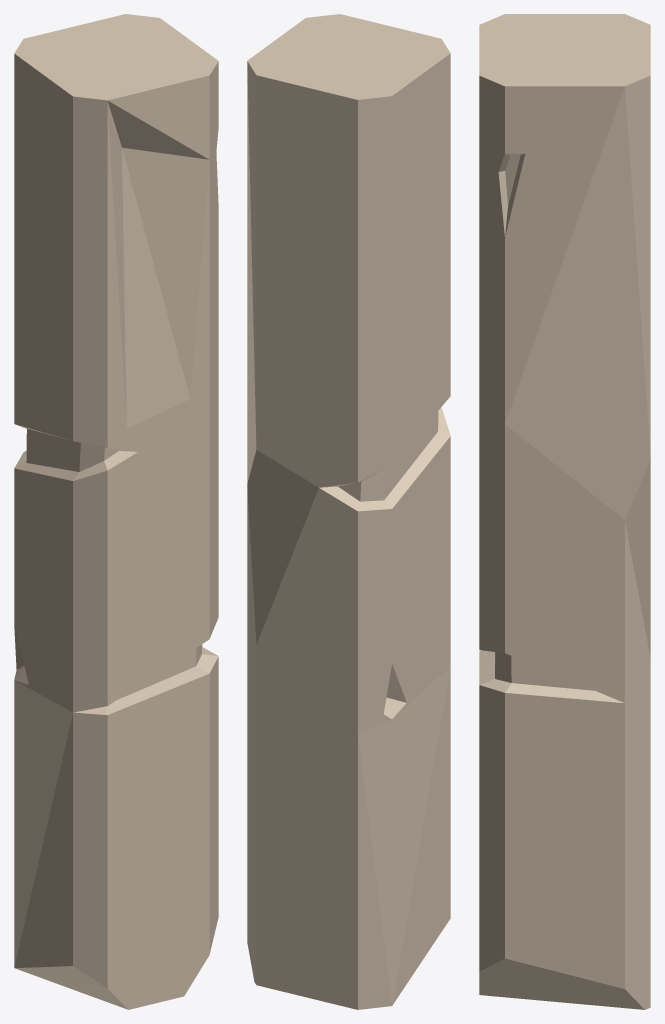
The model's file is Pillar_001.fbx.
The picture shows the model from 3 angles, left to right: view 1: azimuth 30°, elevation 25°; view 2: azimuth 150°, elevation 25°; view 3: azimuth 270°, elevation 25°; orthographic projection. The views are drawn at different scales.
Parts seen in each view (by area): view 1: Pillar_001; view 2: Pillar_001; view 3: Pillar_001.
Part boxes in pixels (x1,y1,x2,y2): Pillar_001: [14, 14, 218, 1009]; Pillar_001: [247, 14, 450, 1009]; Pillar_001: [479, 14, 650, 1009].
Bounding box in the file's own units: 0.5 × 3 × 0.5.
